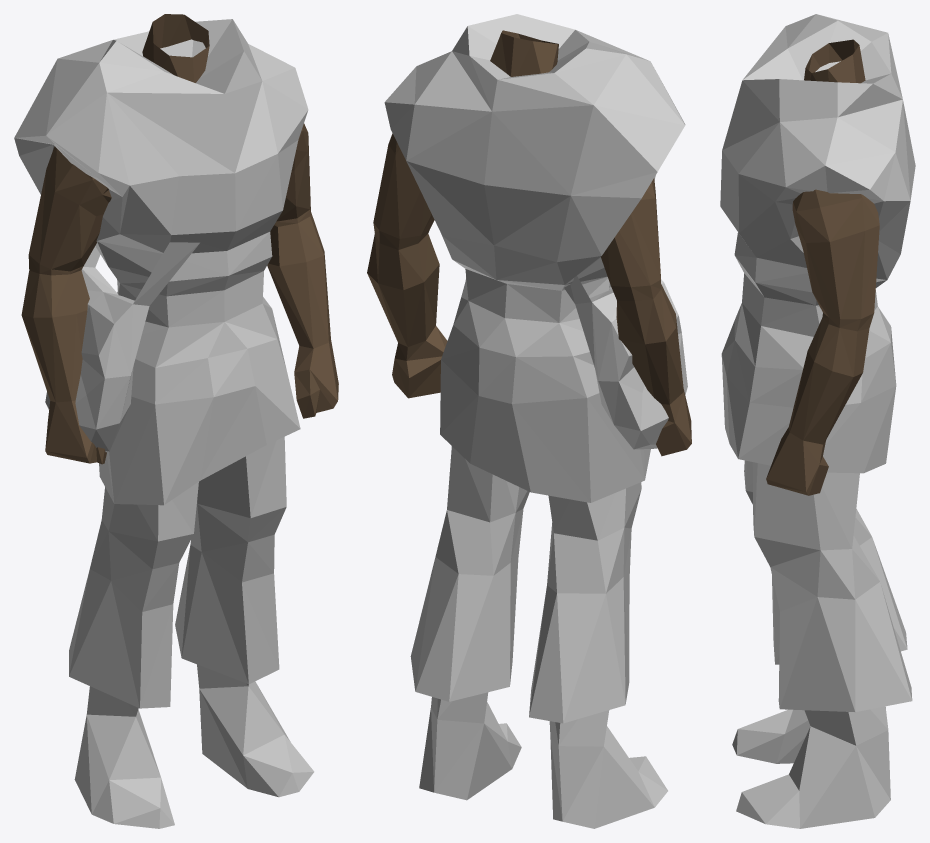
Rendered from ARMOR_BDT_H.OBJ.
The picture shows the model from 3 angles, left to right: view 1: azimuth 30°, elevation 25°; view 2: azimuth 150°, elevation 25°; view 3: azimuth 270°, elevation 25°; orthographic projection. The views are drawn at different scales.
Visible parts, largest first — view 1: ARMOR_BDT_H; view 2: ARMOR_BDT_H; view 3: ARMOR_BDT_H.
Boxes of the visible parts, x1,y1,x2,y2 form: ARMOR_BDT_H: (14,14,338,828); ARMOR_BDT_H: (367,14,691,828); ARMOR_BDT_H: (720,14,915,828).
Size of the model in its own units: 0.6887 by 1.69 by 0.4058.
